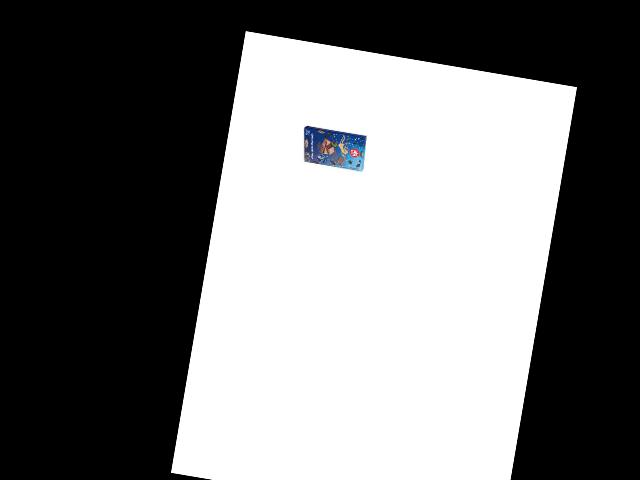chocolate: (297, 120, 370, 176)
